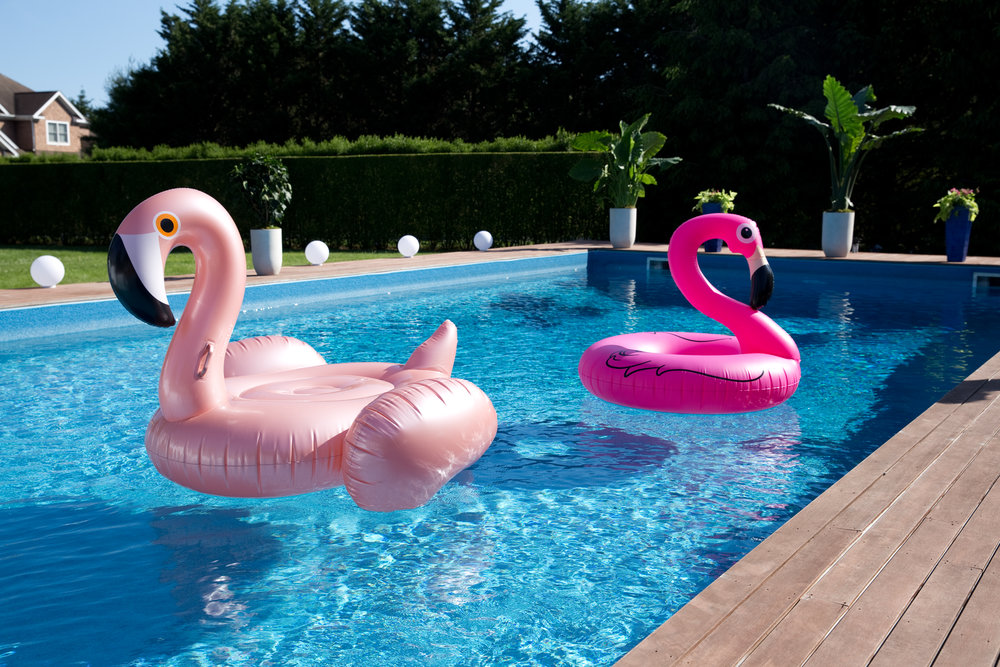Flamingo: (105, 185, 500, 516)
